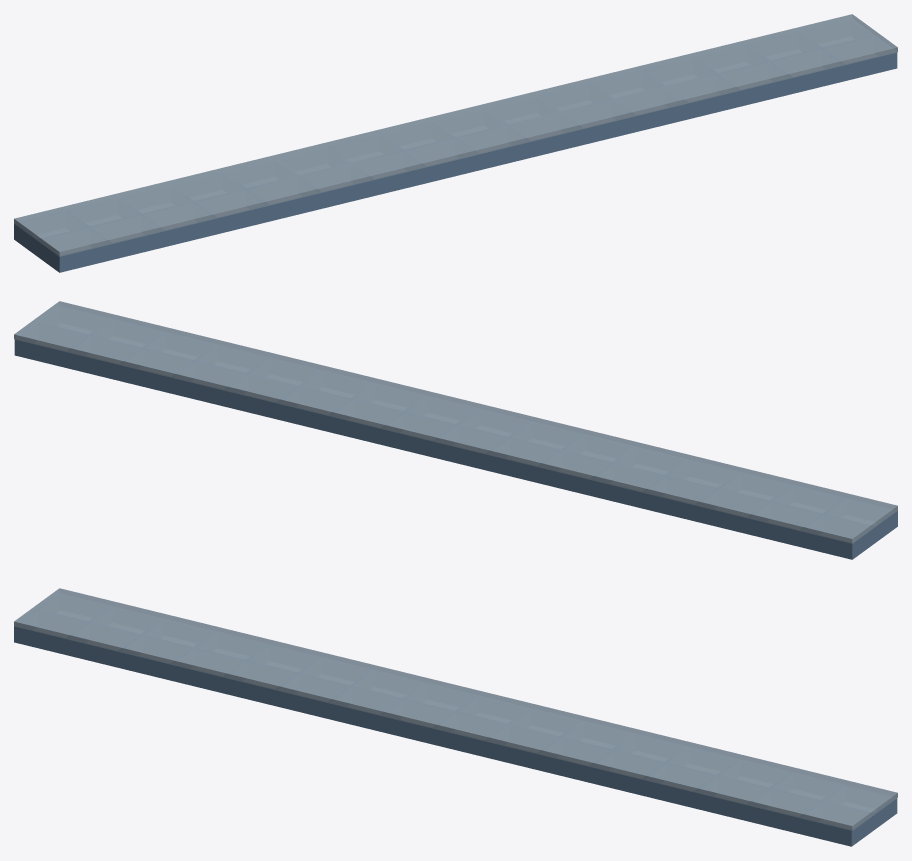
Rendered from Platform_2.fbx.
3 views of the same model, one above another, from view 1: azimuth 30°, elevation 25°; view 2: azimuth 150°, elevation 25°; view 3: azimuth 330°, elevation 25° (orthographic).
Parts seen in each view (by area): view 1: Platform3_high2; view 2: Platform3_high2; view 3: Platform3_high2.
Part boxes in pixels (x1,y1,x2,y2): Platform3_high2: (14, 14, 897, 272); Platform3_high2: (14, 301, 897, 559); Platform3_high2: (14, 588, 897, 846).
Size of the model in its own units: 2019 by 48.04 by 190.
